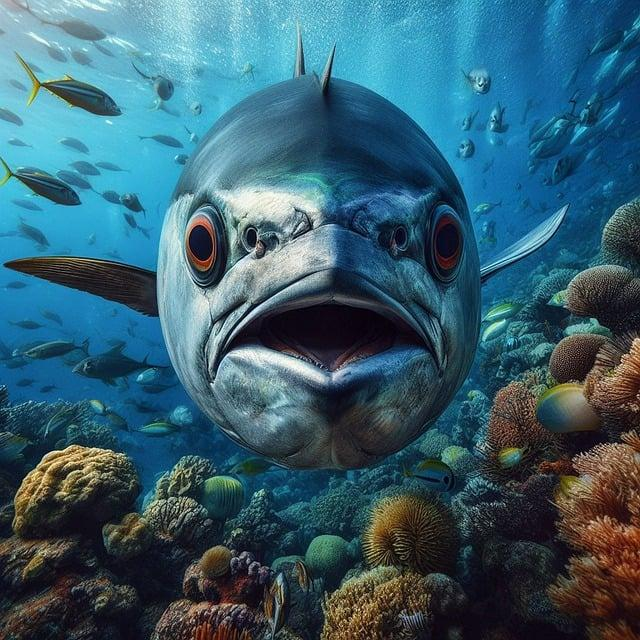Mulut: (190, 248, 468, 462)
Sirip Dada: (0, 234, 184, 360), (456, 183, 600, 323)
Sirip Punggung: (258, 8, 358, 122)
